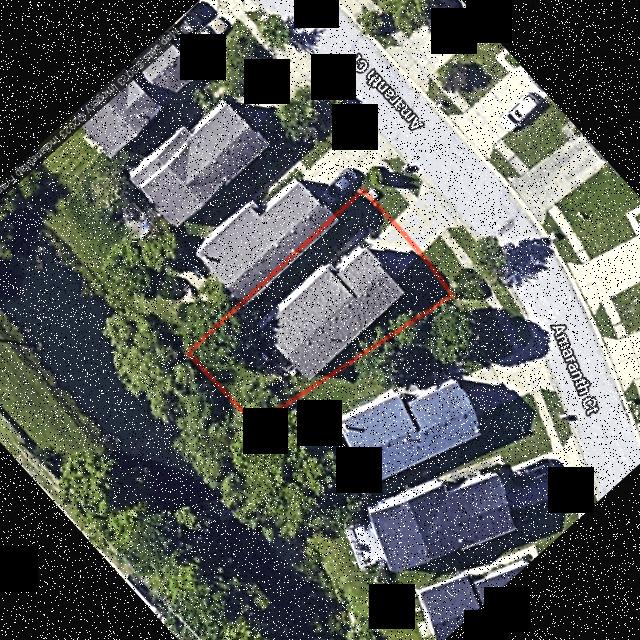Driveway: (366, 224, 416, 278)
Extra Driveway: (396, 182, 458, 250)
Extra Lawn: (363, 167, 407, 217), (423, 236, 461, 286), (447, 226, 475, 263), (384, 156, 420, 183), (410, 190, 417, 195)
Extra Sidewalk: (438, 230, 473, 268), (397, 189, 414, 203)
House: (254, 246, 402, 378)
